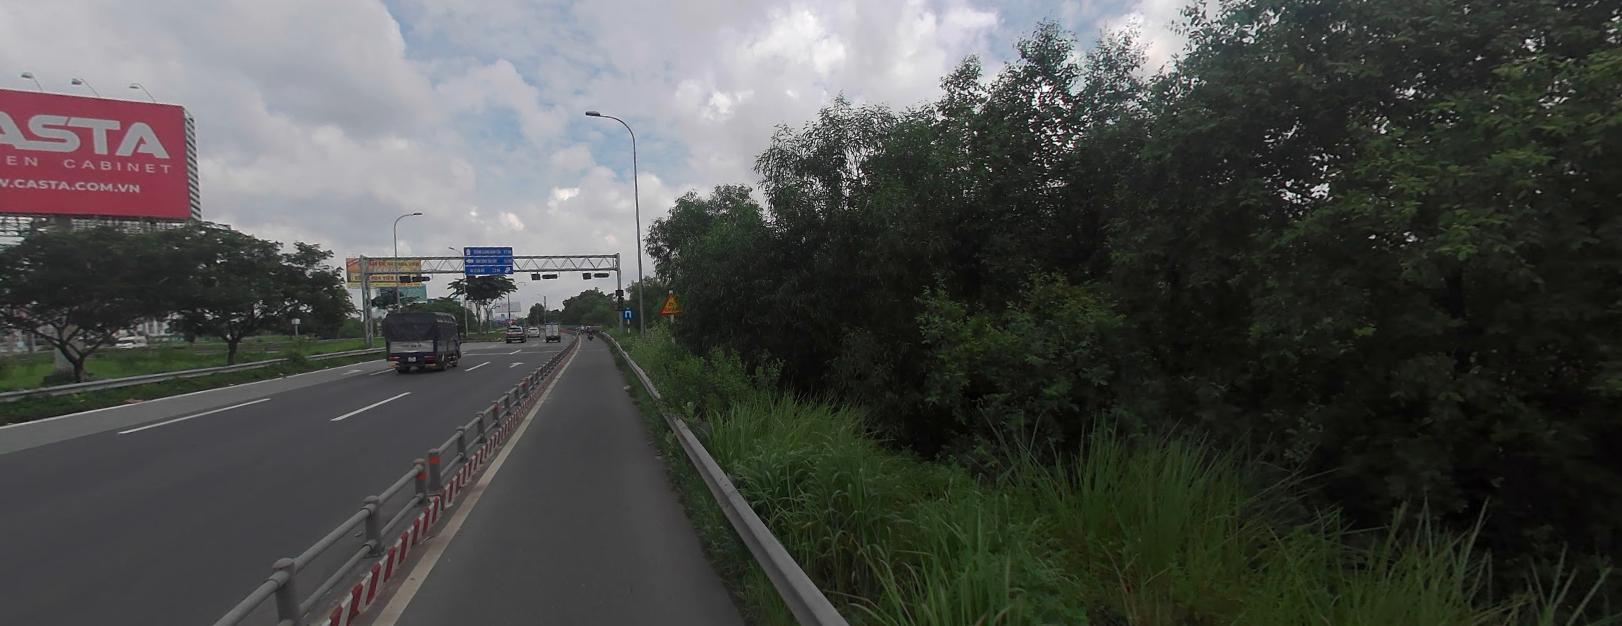Nguy hiem: (660, 291, 683, 311)
